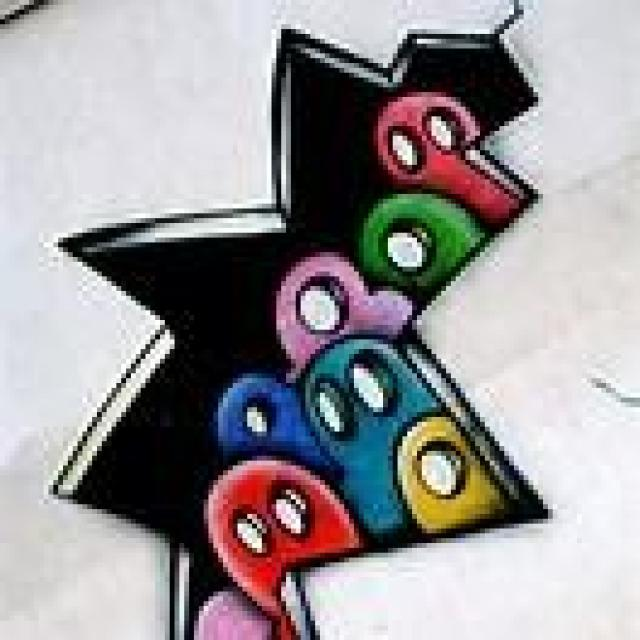nonspitting: (48, 29, 548, 640)
